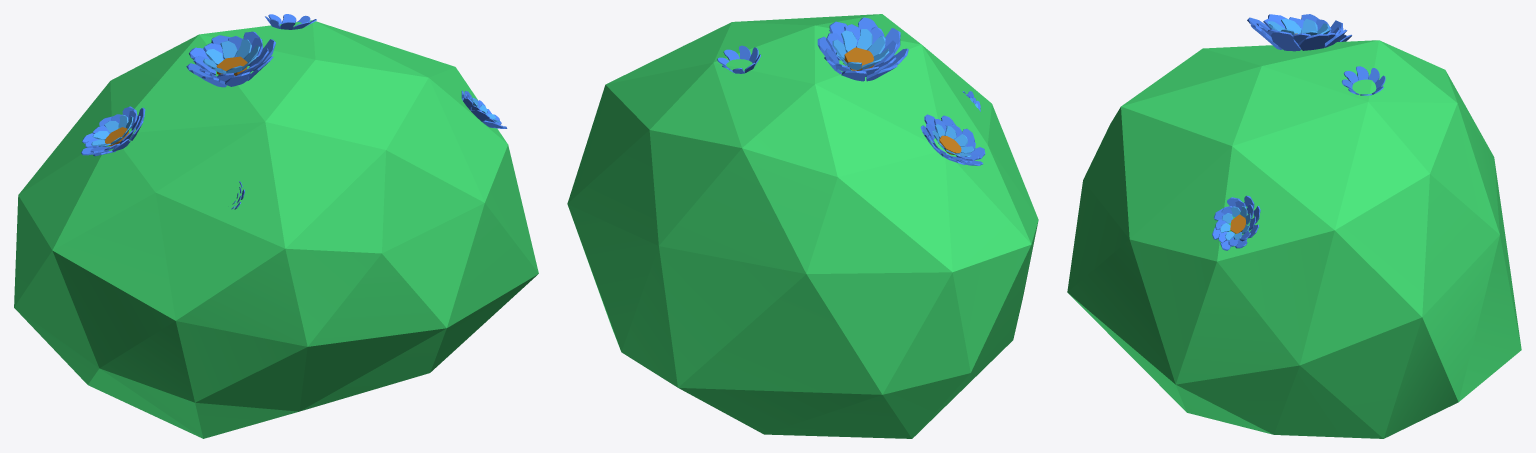
The model's file is zbun1.fbx.
3 renders of one model, left to right at view 1: azimuth 30°, elevation 25°; view 2: azimuth 150°, elevation 25°; view 3: azimuth 270°, elevation 25°, orthographic. The views are drawn at different scales.
Visible parts, largest first — view 1: zbunsuma1; view 2: zbunsuma1; view 3: zbunsuma1.
Boxes of the visible parts, box(x1,y1,x2,y2) form: zbunsuma1: box(14, 14, 538, 438); zbunsuma1: box(567, 14, 1038, 438); zbunsuma1: box(1067, 14, 1521, 438).
Size of the model in its own units: 183 by 148 by 157.
